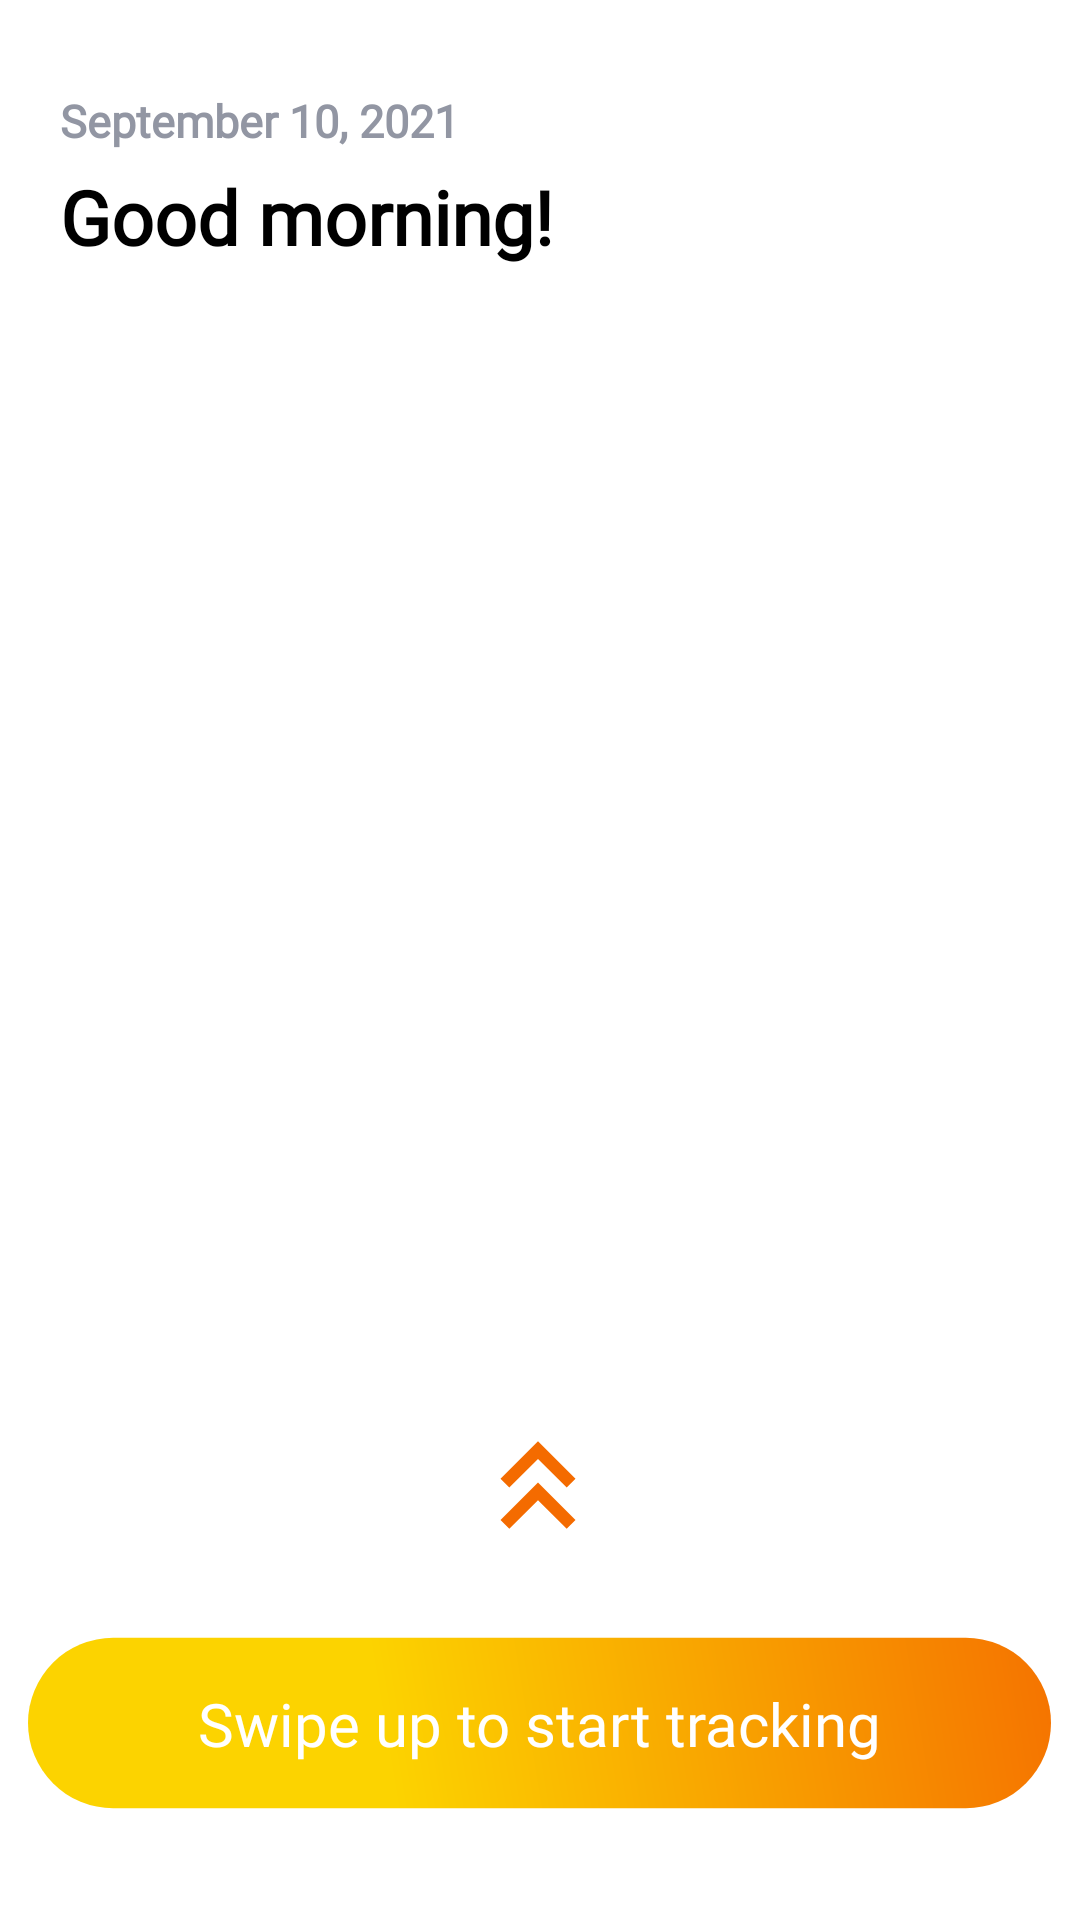

Icon bounding boxes for this 1080px×1920px phone screenshot, format BBox(x1, y1, x2, y2):
arrowup: BBox(500, 1441, 576, 1529)
